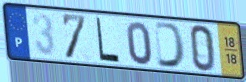0: (125, 19, 154, 67), (189, 23, 216, 73)
3: (31, 12, 57, 58)
7: (61, 13, 88, 61)
D: (153, 20, 188, 70)
L: (95, 15, 122, 65)
